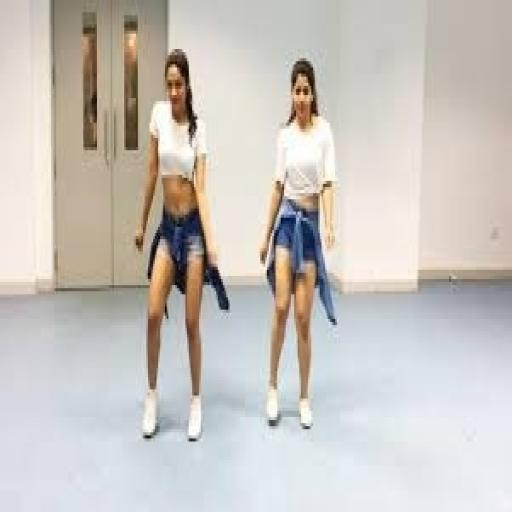dancing: (131, 46, 230, 445), (257, 56, 340, 436)
